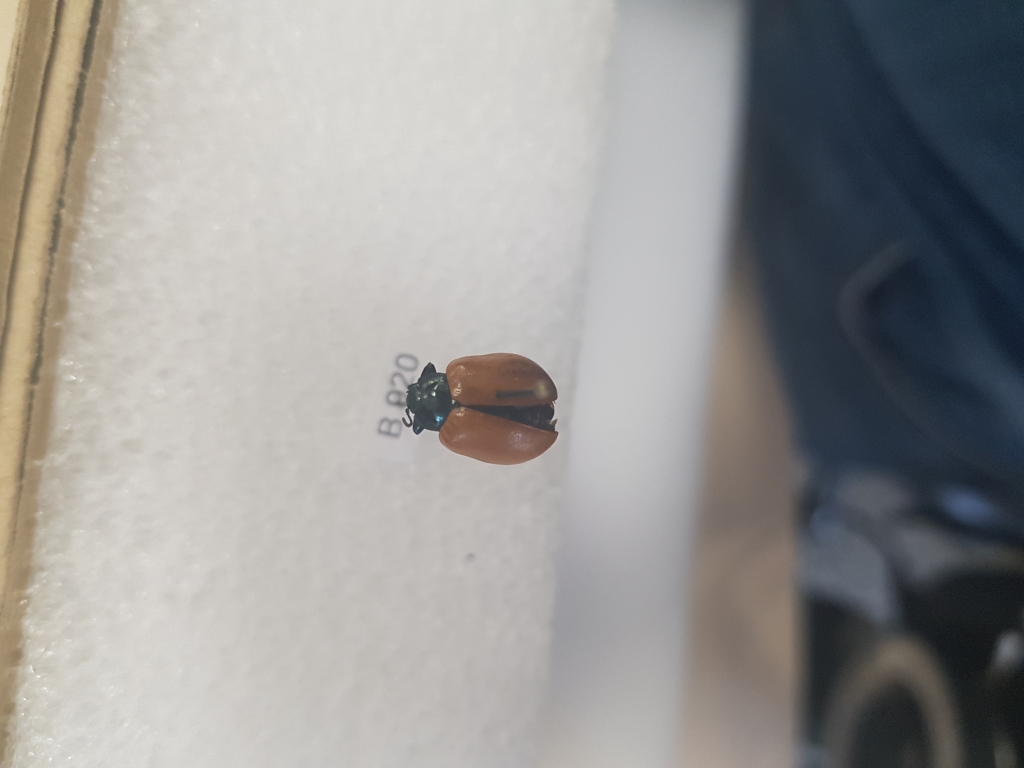Chrysomela_populi: (398, 351, 562, 470)
